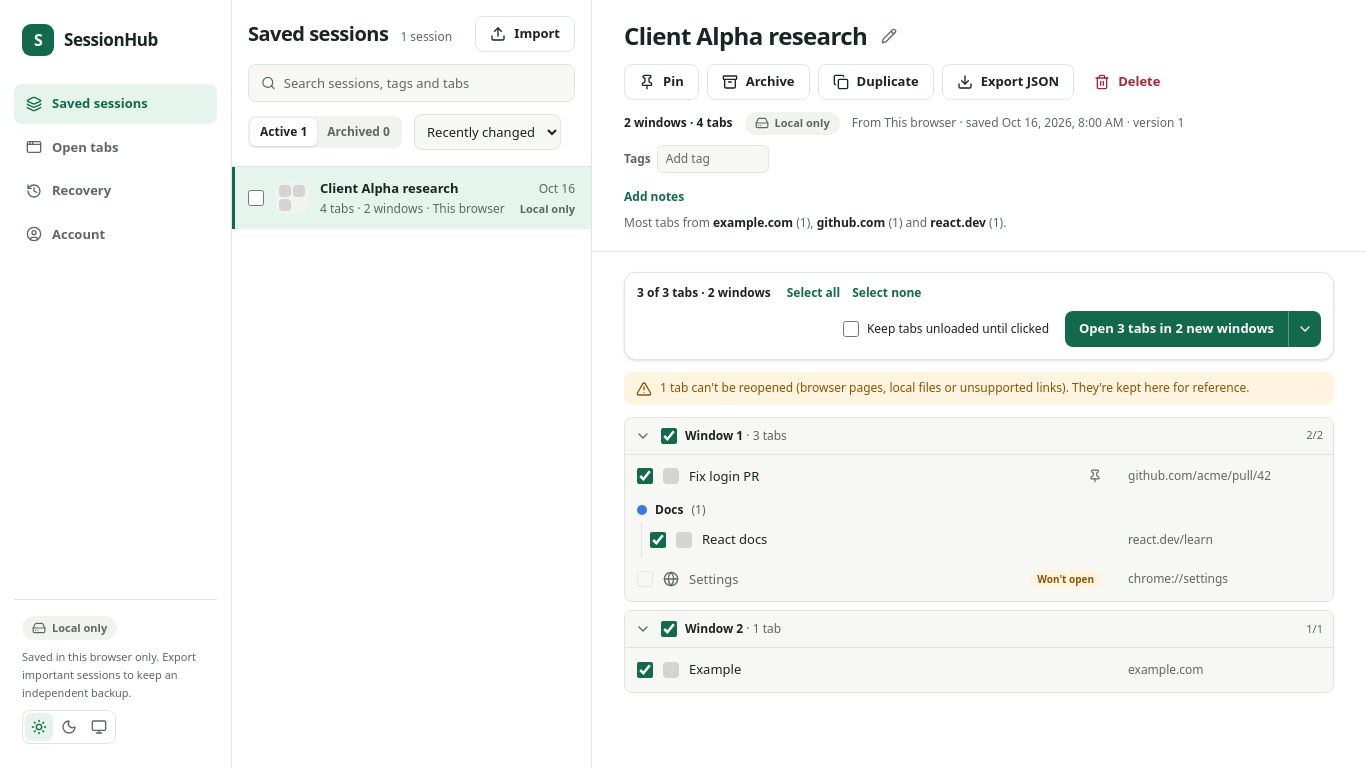
Test case: open picker › ticks a range with Shift-click, skipping tabs that can't reopen, and keeps ticks across a new version
The image size is (1366, 768).
Click the button "Select none": click(887, 293) x1=852 y1=285 x2=922 y2=301
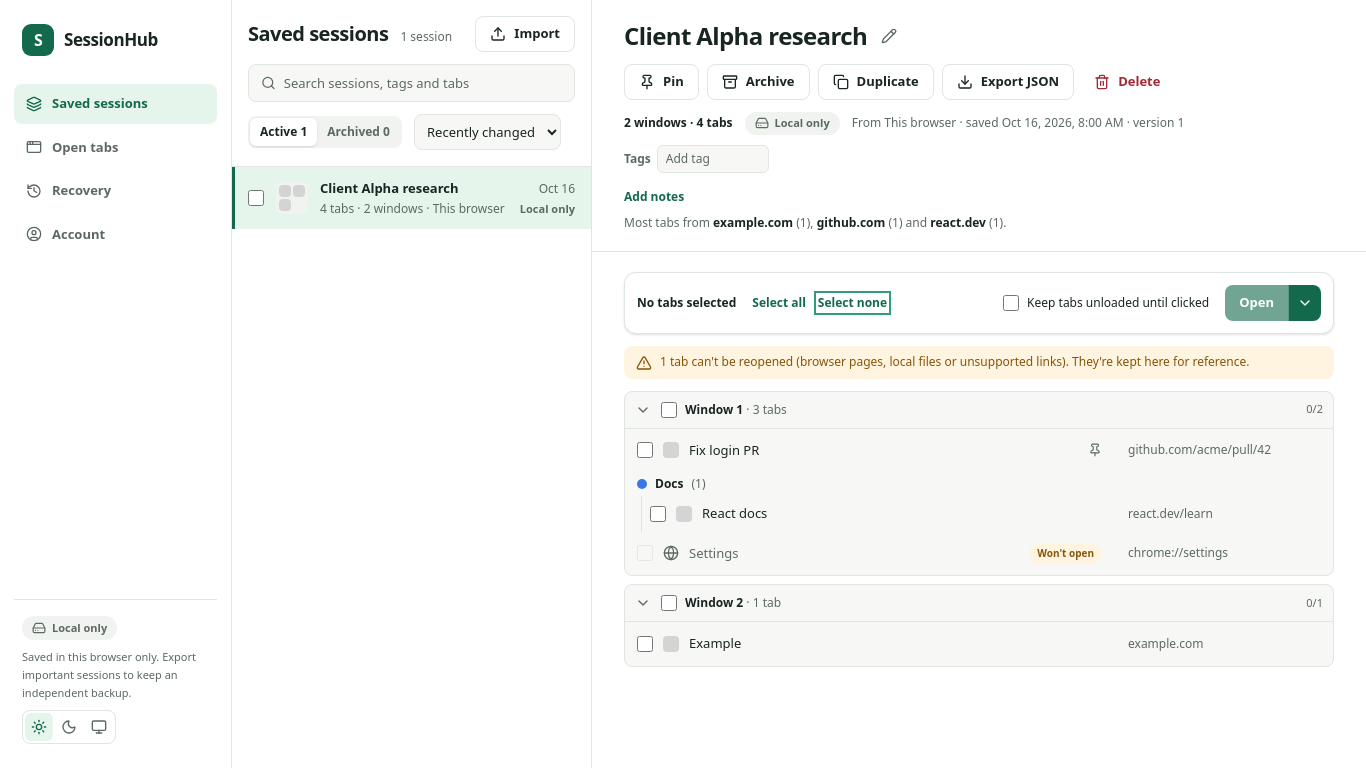
Click the checkbox named "Fix login PR" next to "Fix login PR": click(645, 450) x1=637 y1=442 x2=653 y2=458
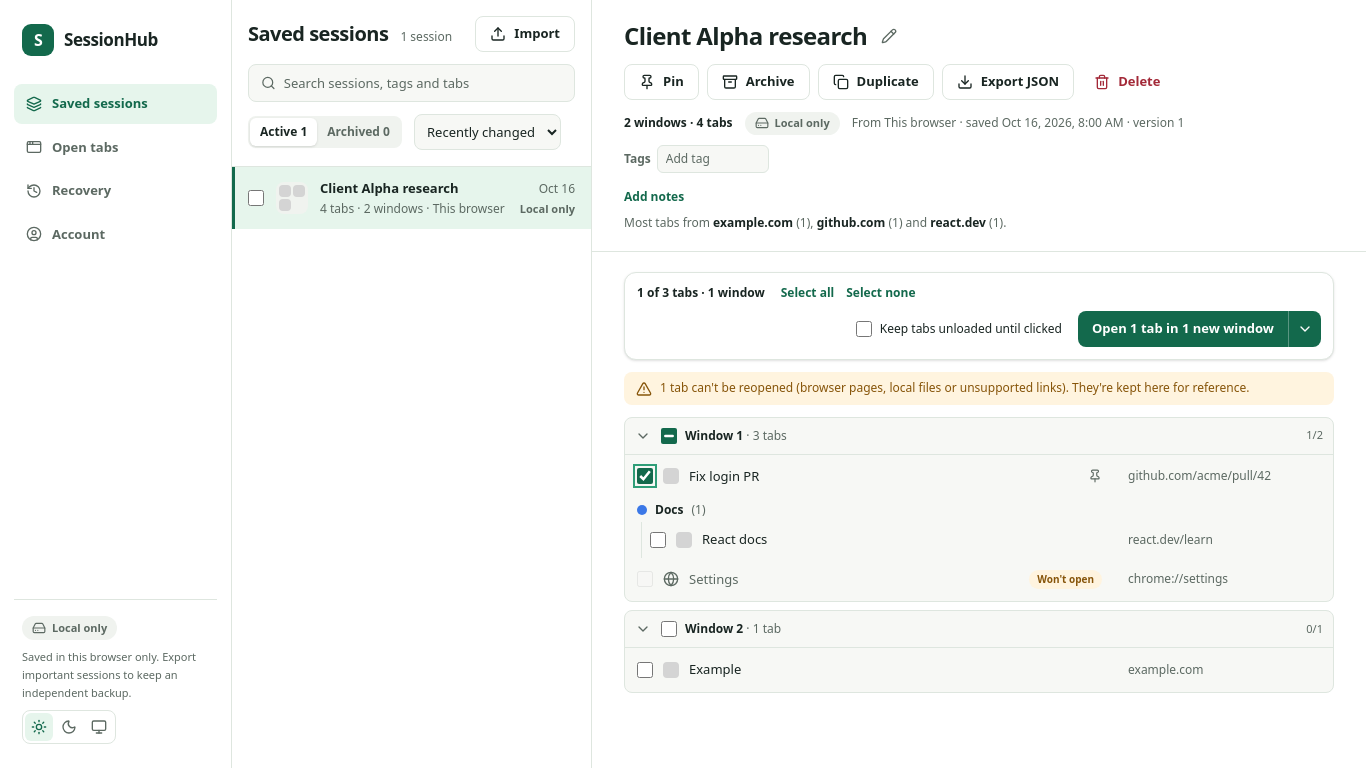
Type keys "{Shift>}"
Click the checkbox named "Example" below "Window 2": click(645, 670) x1=637 y1=662 x2=653 y2=678
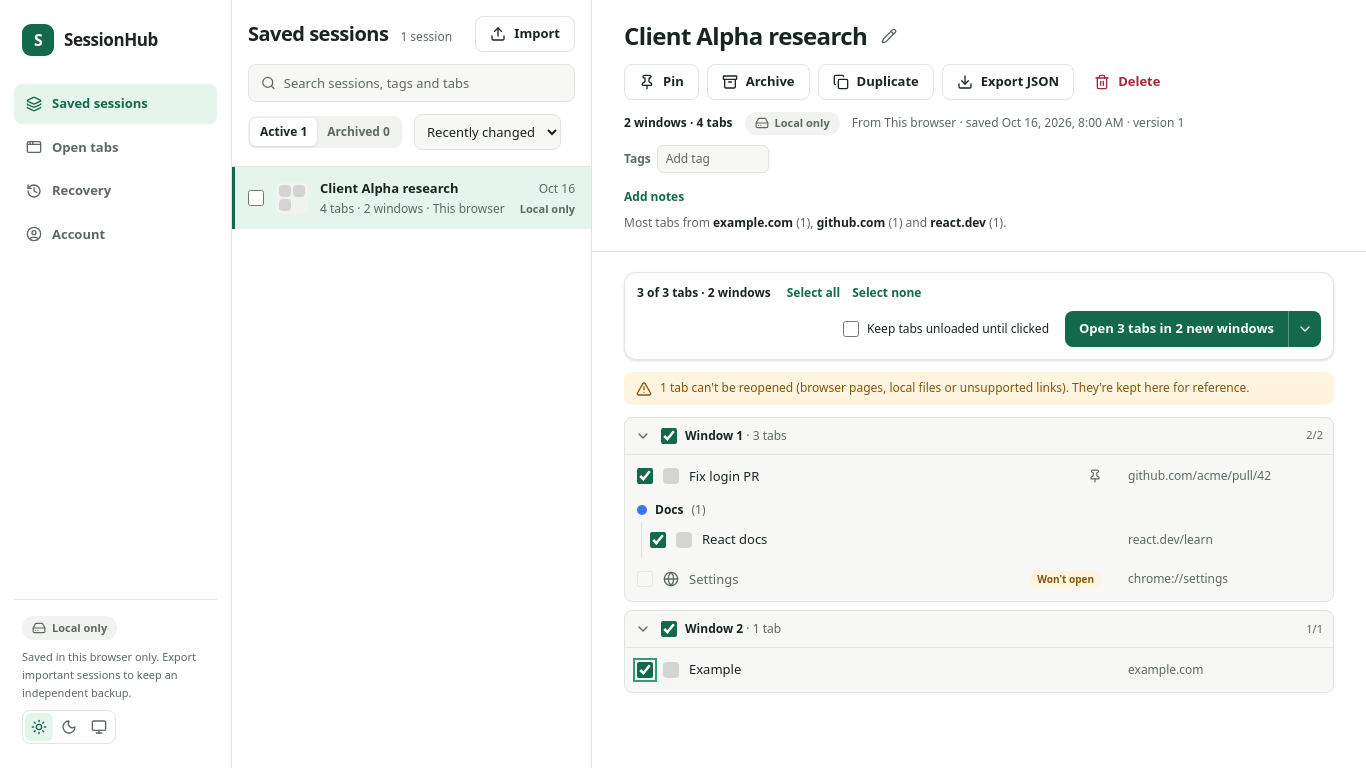
Type keys "{/Shift}"
Expected: the text "3 of 3 tabs · 2 windows" is shown, x1=637 y1=285 x2=771 y2=301
Click the checkbox named "React docs" next to "React docs": click(658, 540) x1=650 y1=532 x2=666 y2=548
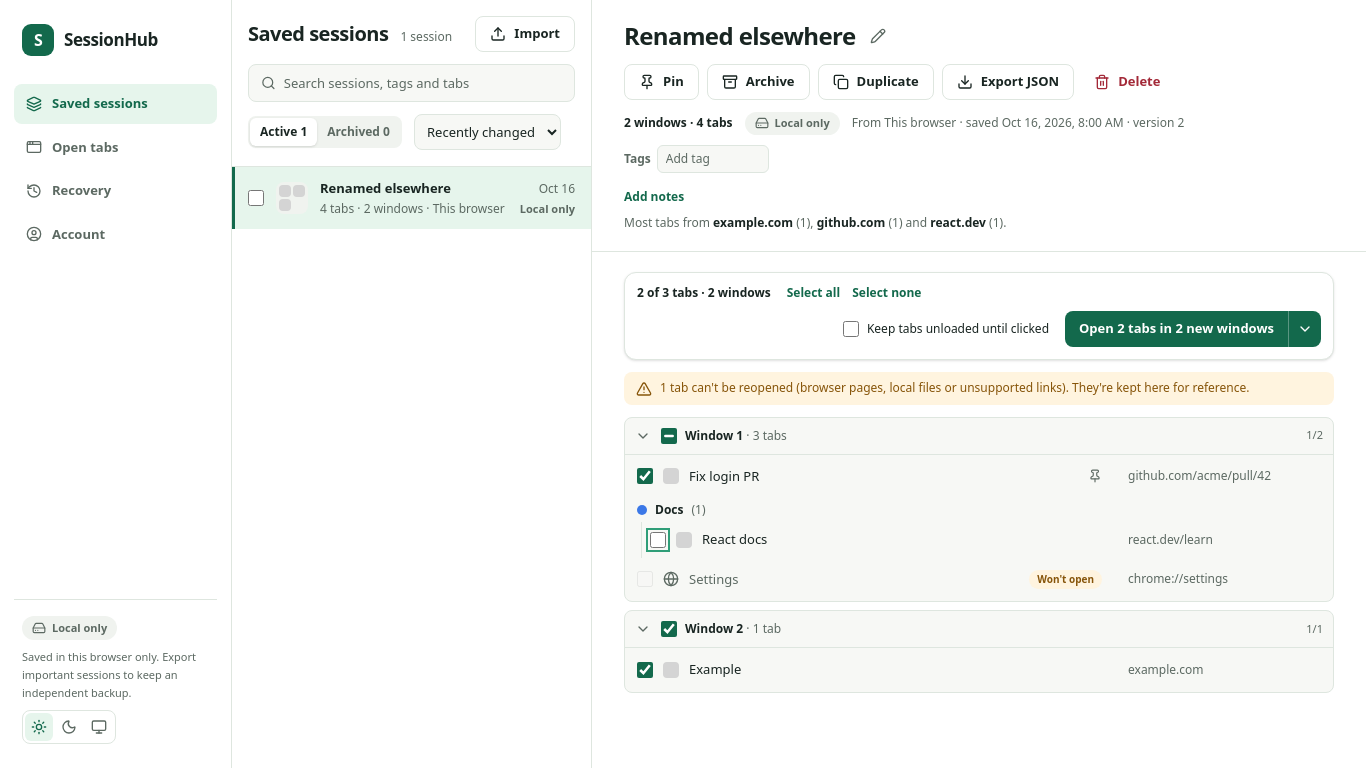
Expected: the checkbox named "React docs" next to "React docs" is not checked, x1=650 y1=532 x2=666 y2=548
Expected: the heading "Renamed elsewhere" is shown, x1=624 y1=20 x2=856 y2=52
Expected: the text "2 of 3 tabs · 2 windows" is shown, x1=637 y1=285 x2=771 y2=301
